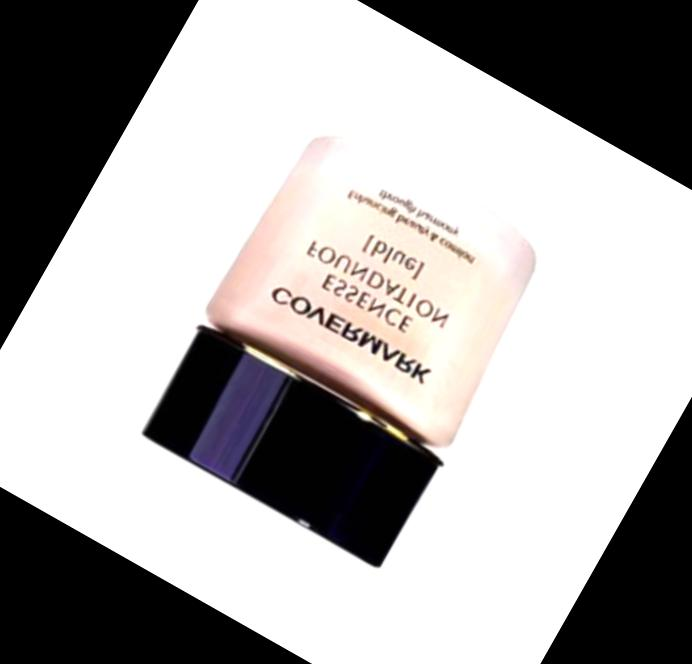cosmetic: (133, 114, 562, 572)
